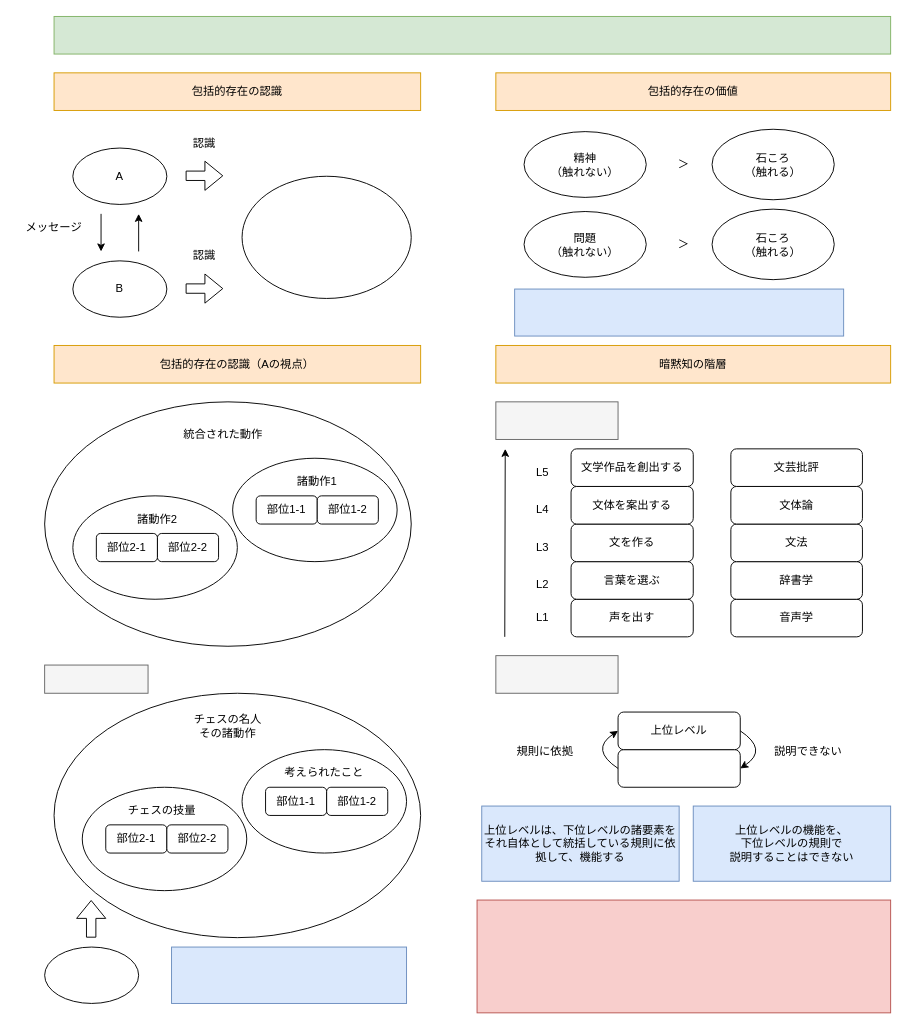
Some shapes in this 907 by 1029 pixel diagram are drawn without their labels. The centre of each missing label's shape, as x and y in pixels:
2つの原理: the point at 556,674
チェスの プレイヤー: the point at 91,974
チェスの名人: the point at 96,678
下位レベル: the point at 678,768
包括的存在: the point at 326,236
暗黙知の次元 第二章 創発: the point at 472,35
暗黙知は、 身体と事物の衝突から、 その衝突の意味を包括＝理解することによって、 周囲の世界を解釈するのだった。 『暗黙知の次元』P85: the point at 683,956
繰り返し認識することで 動作を内面化していく そして、暗黙知の階層があがる: the point at 289,974
触れるものより触れないものに リアルな価値を感じてしまう （形而上のリアル感 ＞ 形而下 のリアル感 ）: the point at 679,312
言語行動 （スピーチ）: the point at 556,420
